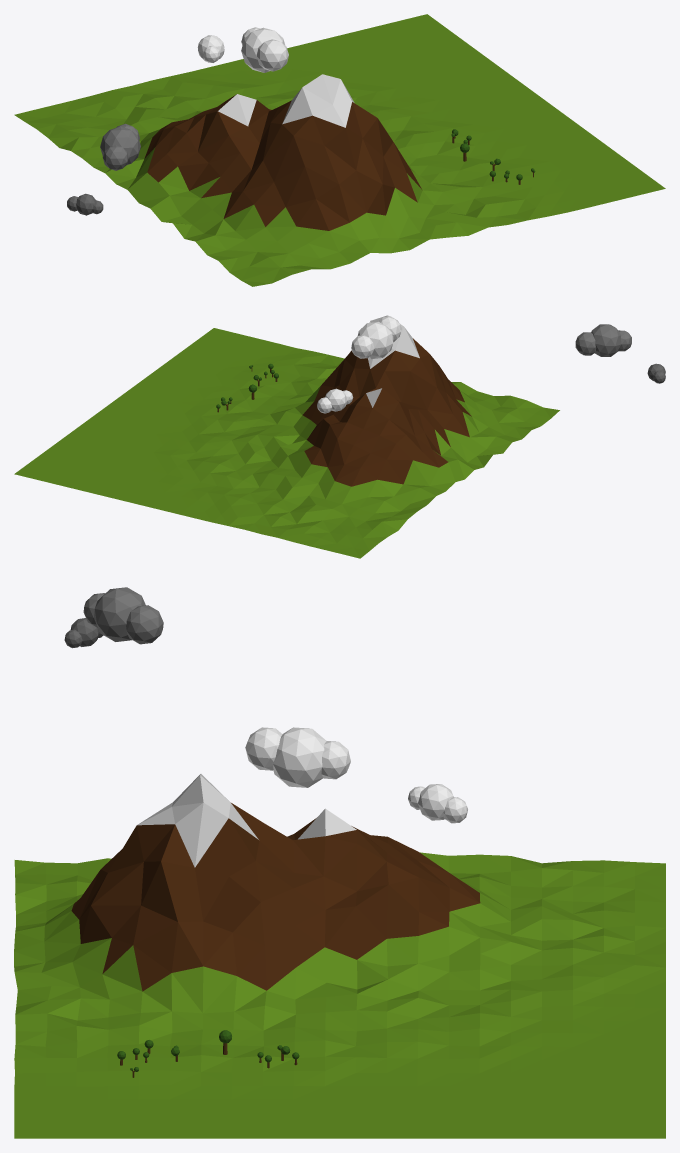
The model's file is asset.gltf.
3 renders of one model, top to bottom at view 1: azimuth 30°, elevation 25°; view 2: azimuth 150°, elevation 25°; view 3: azimuth 270°, elevation 25°, orthographic. The views are drawn at different scales.
Parts seen in each view (by area): view 1: Plane (×6); view 2: Plane (×5); view 3: Plane (×5).
Part boxes in pixels (box(x1,y1,x2,y2)): Plane (×6): box(14, 14, 665, 286); Plane (×5): box(14, 315, 631, 558); Plane (×5): box(14, 587, 665, 1138).
Bounding box in the file's own units: 19.3 × 5.04 × 14.05.
